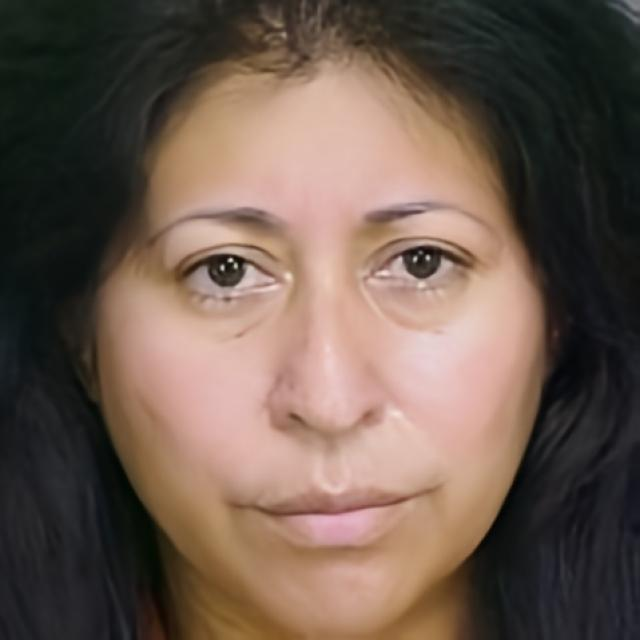content: (107, 58, 537, 626)
